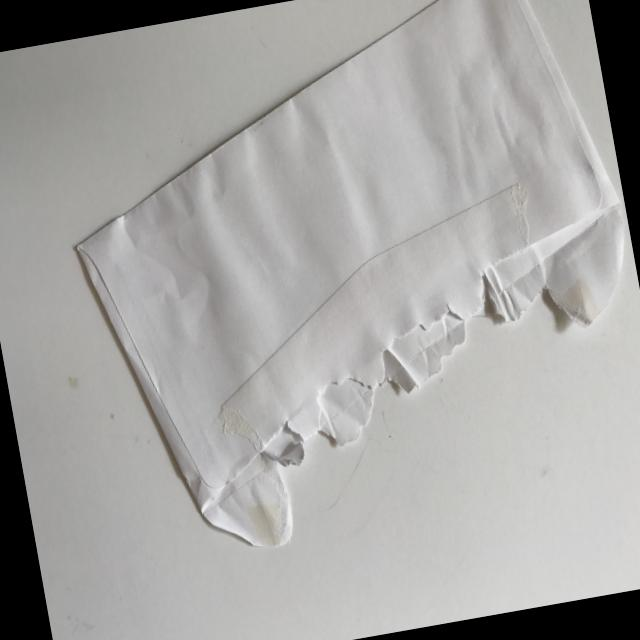Paper: (36, 0, 640, 579)
